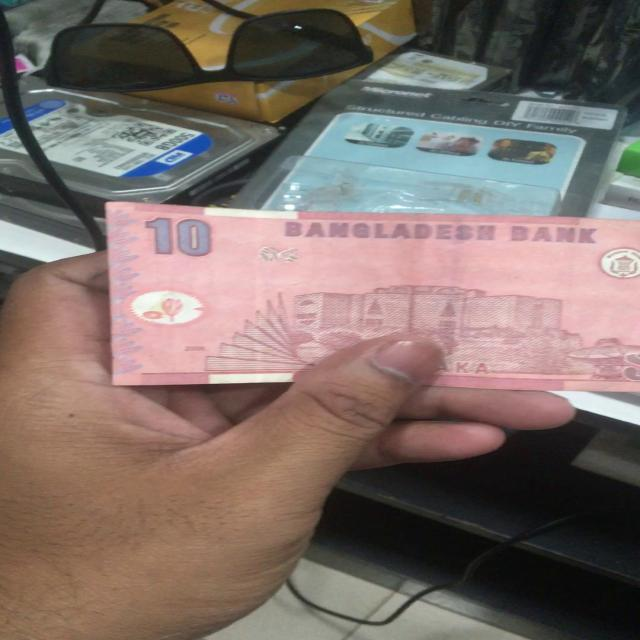Taka: (100, 200, 636, 392)
